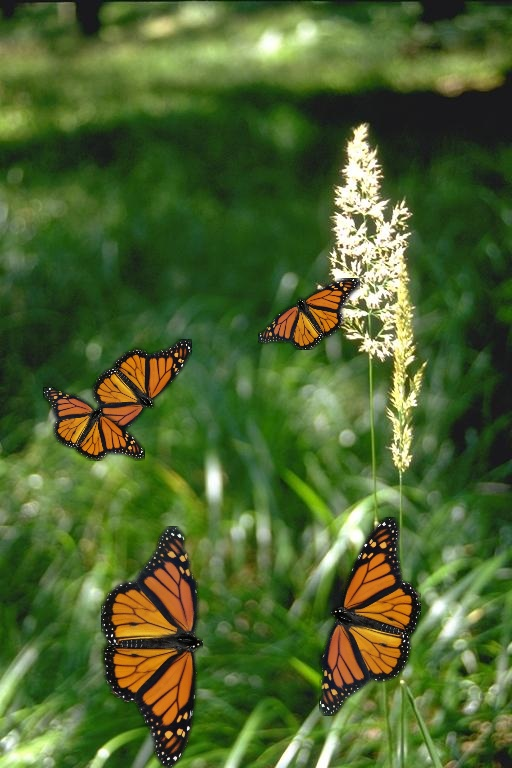danaus_plexippus: (101, 526, 203, 765), (319, 517, 421, 716), (90, 339, 192, 445), (43, 387, 145, 461), (258, 278, 360, 350)
